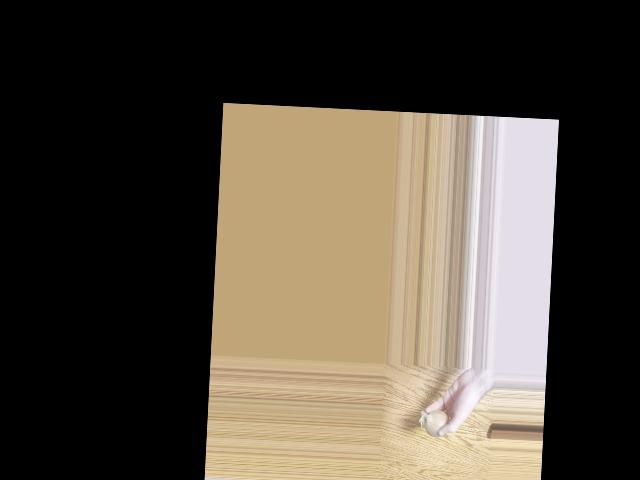onion: (423, 410, 450, 437)
